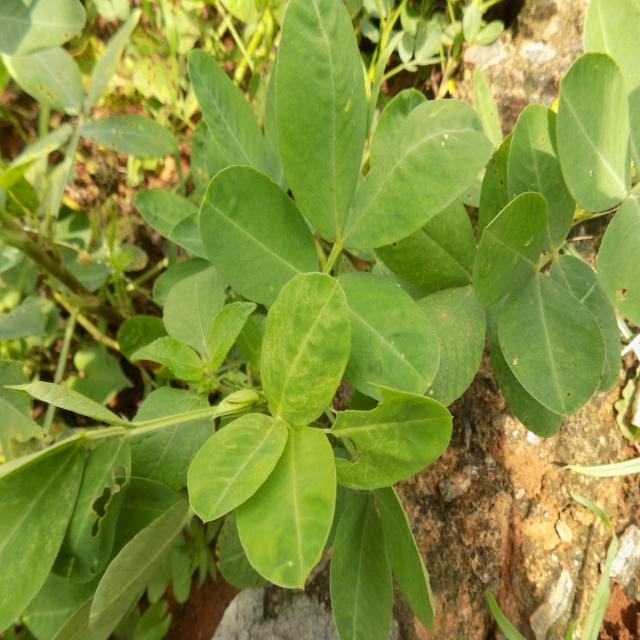Ground nut_healthy: (273, 7, 371, 251), (197, 169, 334, 323), (493, 265, 602, 425), (234, 422, 333, 598), (259, 270, 354, 426), (184, 47, 278, 182), (557, 48, 629, 220), (118, 181, 224, 275)
